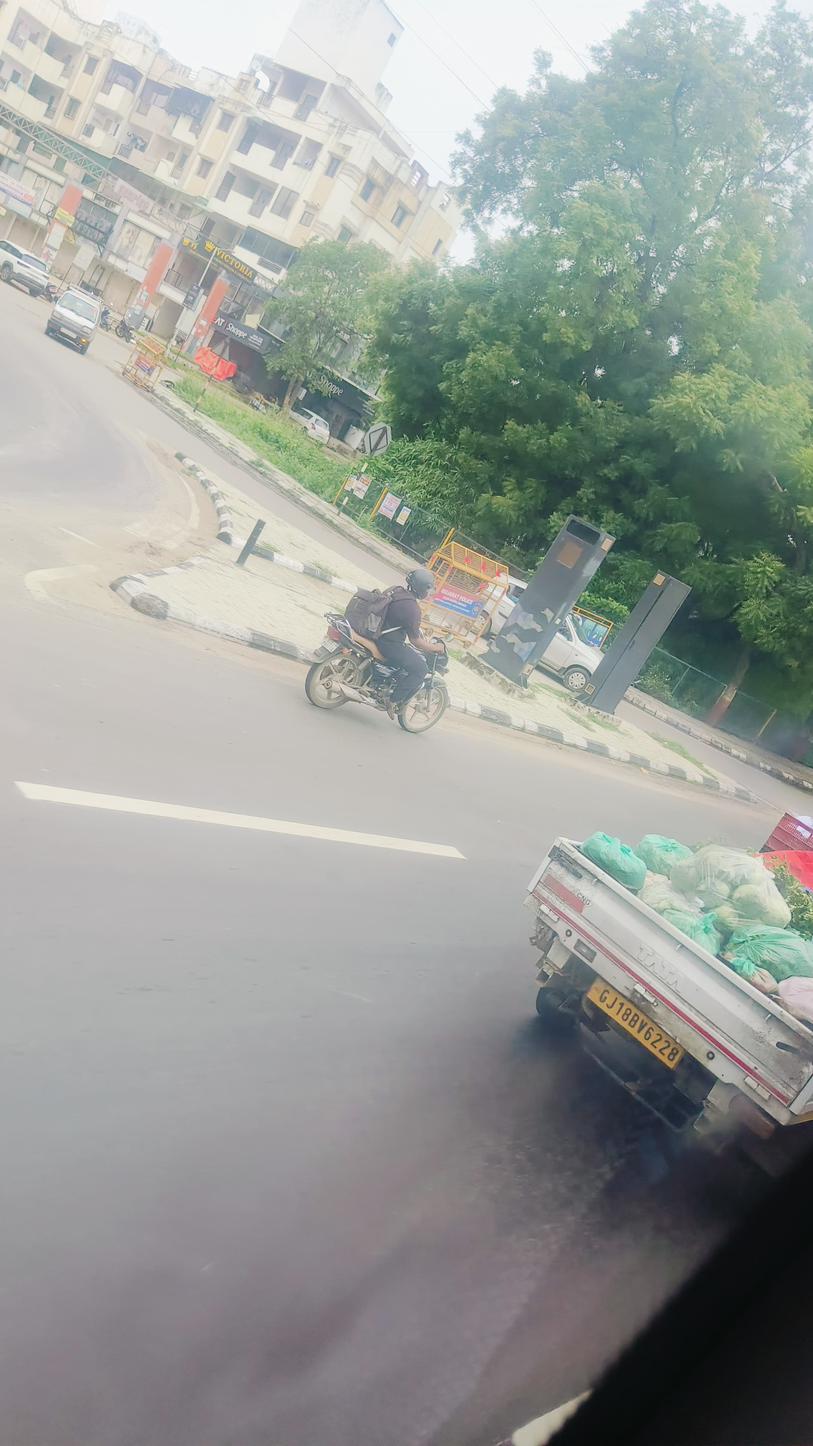BikeWithRider: (296, 560, 458, 740)
Helmet: (402, 562, 438, 605)
